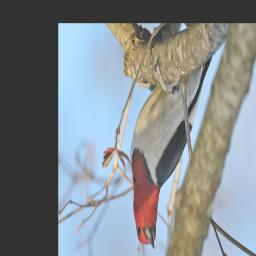Woodpecker: (126, 31, 219, 256)
